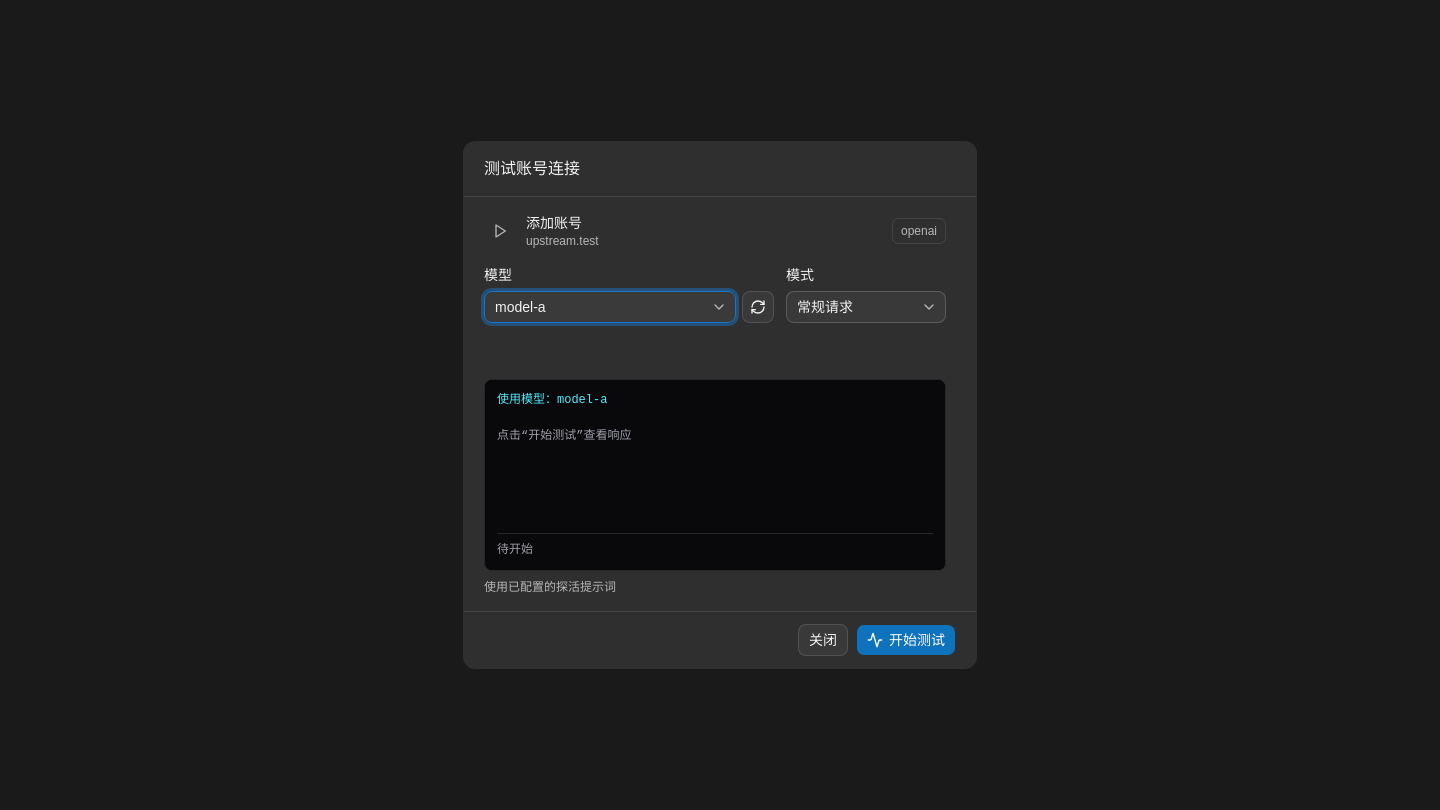
Test case: 动画提示词首次读取失败时禁用测试，重新读取成功后可使用默认
Expected: the button "开始测试" is enabled, 856,624 -> 956,656
Click the dropdown named "选择测试模式" at (866, 307), box 786,291 -> 946,323
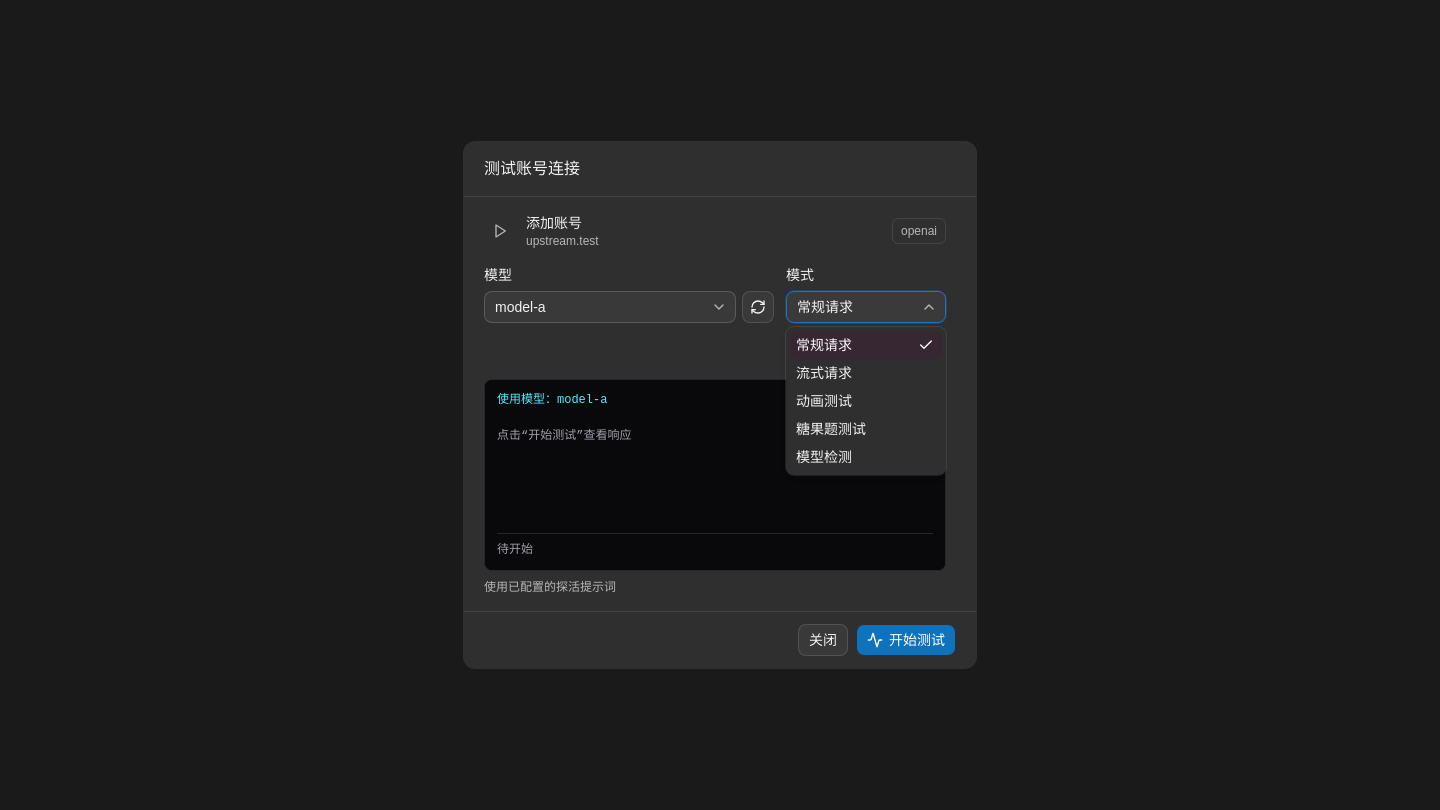
Click the option "动画测试" at (824, 401), box 796,393 -> 852,409
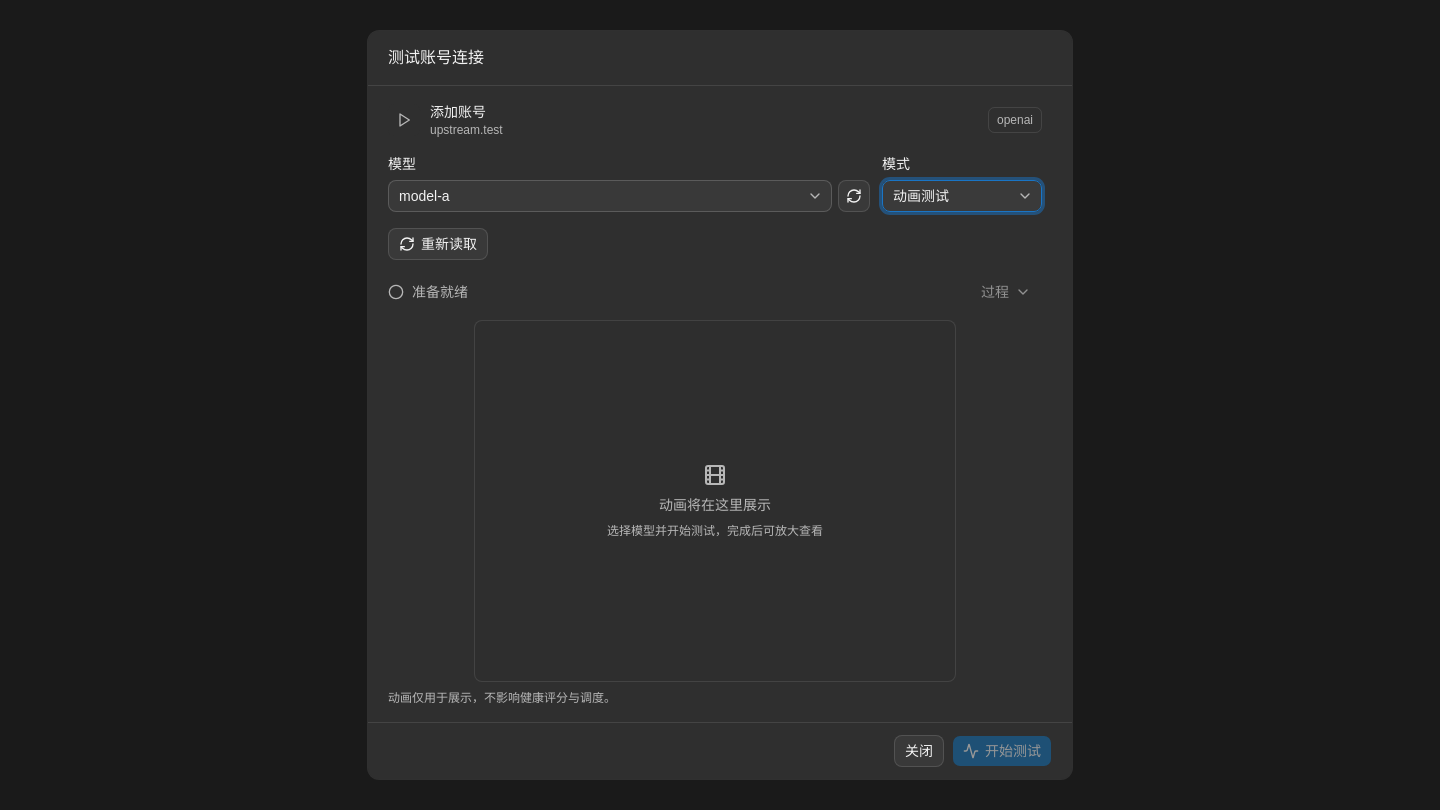
Result: the button "开始测试" is disabled at 952,735 -> 1052,767
Click the button "重新读取" at (438, 244), box 388,228 -> 488,260
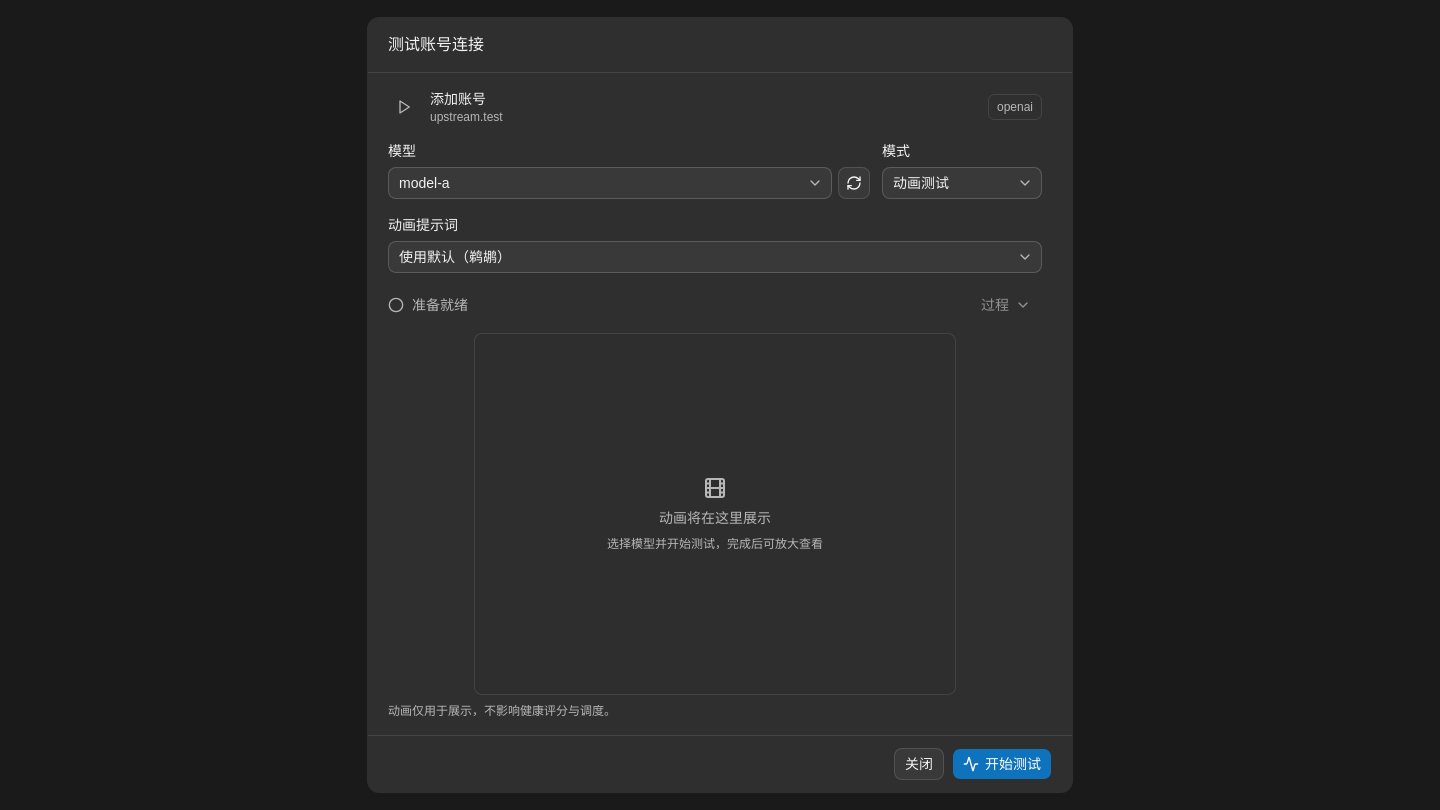
Result: the dropdown named "选择动画提示词" shows "使用默认（鹈鹕）" at 388,241 -> 1042,273
Result: the button "开始测试" is enabled at 952,748 -> 1052,780
